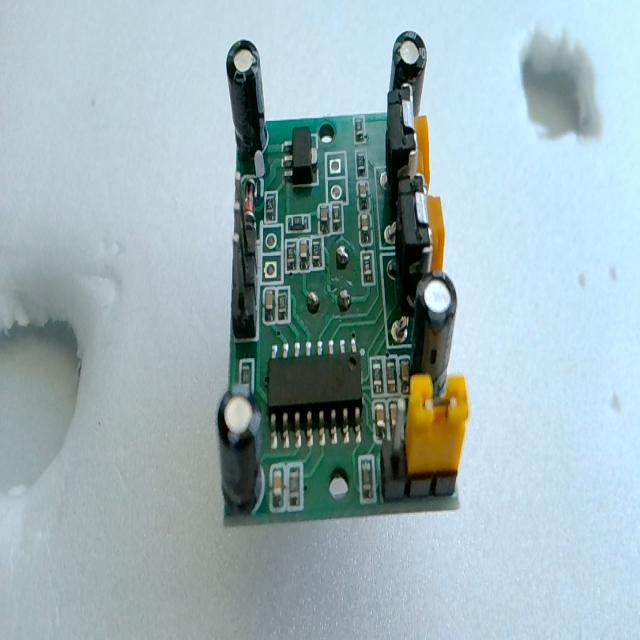Electrolytic capacitor: (220, 42, 274, 157), (216, 387, 264, 516), (390, 29, 428, 114)
IC: (266, 354, 363, 434)
diode: (410, 272, 458, 396)
pinheader: (224, 227, 265, 336)
